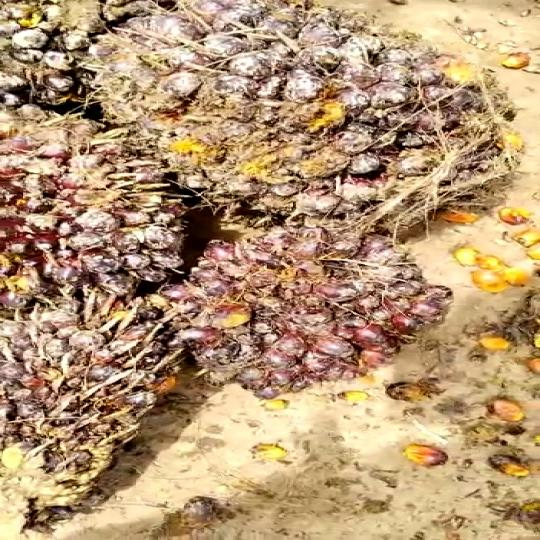kurang masak: (93, 0, 516, 232), (158, 238, 449, 407), (0, 92, 195, 307), (0, 287, 160, 491)
